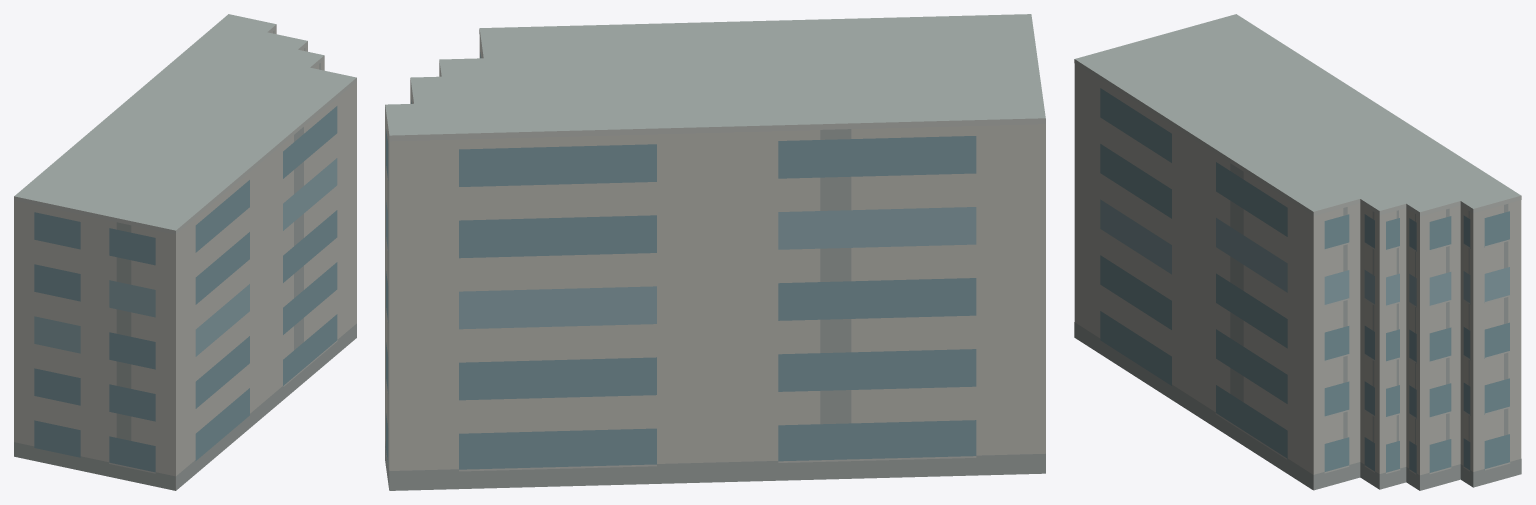
Rendered from survey-upis-32581459.glb.
3 renders of one model, left to right at view 1: azimuth 30°, elevation 25°; view 2: azimuth 150°, elevation 25°; view 3: azimuth 270°, elevation 25°, orthographic. The views are drawn at different scales.
Parts seen in each view (by area): view 1: survey-upis-32581459.tmp; view 2: survey-upis-32581459.tmp; view 3: survey-upis-32581459.tmp.
Part boxes in pixels (x1,y1,x2,y2): survey-upis-32581459.tmp: (14,14,356,490); survey-upis-32581459.tmp: (385,14,1045,490); survey-upis-32581459.tmp: (1074,14,1521,490).
Bounding box in the file's own units: 23.29 × 15.25 × 22.18.
